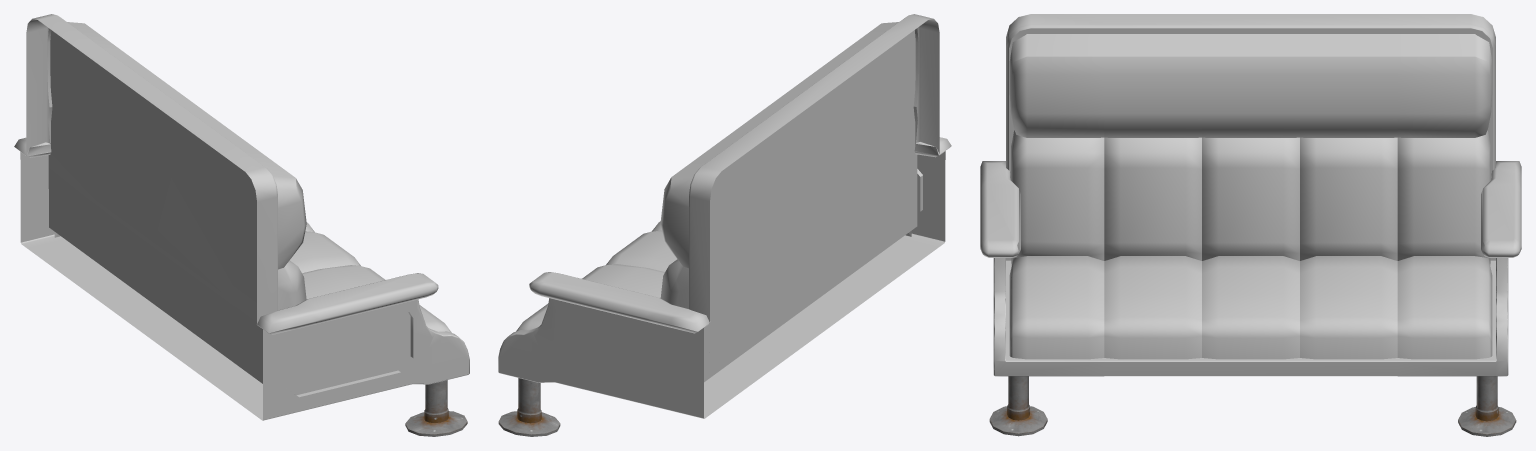
Rendered from short_seat.fbx.
3 renders of one model, left to right at view 1: azimuth 30°, elevation 25°; view 2: azimuth 150°, elevation 25°; view 3: azimuth 270°, elevation 25°, orthographic. The views are drawn at different scales.
Parts seen in each view (by area): view 1: short_seat; view 2: short_seat; view 3: short_seat.
Part boxes in pixels (x1,y1,x2,y2): short_seat: [14, 14, 469, 436]; short_seat: [498, 14, 951, 436]; short_seat: [980, 14, 1521, 436].
Size of the model in its own units: 92.13 by 121 by 191.
